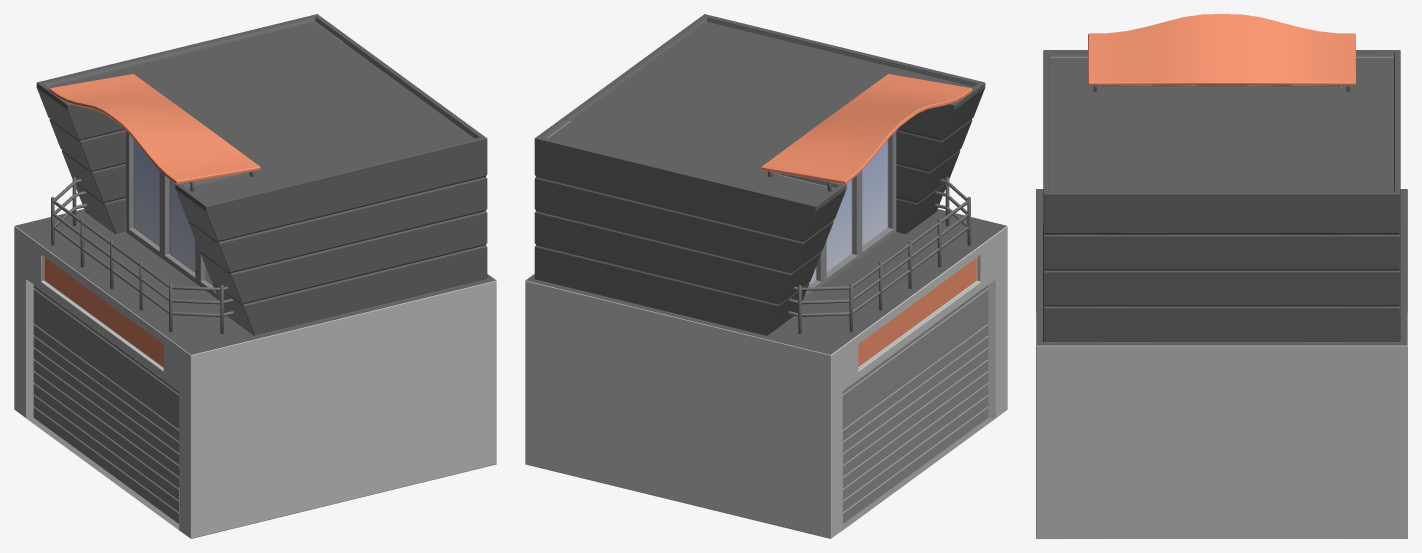
Rendered from Pit-box-Garage.fbx.
The picture shows the model from 3 angles, left to right: view 1: azimuth 30°, elevation 25°; view 2: azimuth 150°, elevation 25°; view 3: azimuth 270°, elevation 25°; orthographic projection. The views are drawn at different scales.
Visible parts, largest first — view 1: Pit-box-Garage, Pit-box-Garage_Door-closed, Pit-box-Garage_Roof, Pit-box-Garage_Door-opened, Pit-box-Garage_Fence, Pit-box-Garage_Fence-poles; view 2: Pit-box-Garage, Pit-box-Garage_Door-closed, Pit-box-Garage_Roof, Pit-box-Garage_Door-opened, Pit-box-Garage_Fence, Pit-box-Garage_Fence-poles; view 3: Pit-box-Garage, Pit-box-Garage_Roof.
Part boxes in pixels (bbox=[...]): Pit-box-Garage: bbox=[14, 14, 496, 538]; Pit-box-Garage_Door-closed: bbox=[33, 285, 179, 523]; Pit-box-Garage_Roof: bbox=[49, 74, 260, 184]; Pit-box-Garage_Door-opened: bbox=[33, 292, 179, 419]; Pit-box-Garage_Fence: bbox=[53, 179, 233, 316]; Pit-box-Garage_Fence-poles: bbox=[51, 177, 223, 333]; Pit-box-Garage: bbox=[525, 14, 1007, 538]; Pit-box-Garage_Door-closed: bbox=[842, 285, 988, 523]; Pit-box-Garage_Roof: bbox=[761, 74, 972, 184]; Pit-box-Garage_Door-opened: bbox=[842, 292, 988, 419]; Pit-box-Garage_Fence: bbox=[788, 179, 968, 316]; Pit-box-Garage_Fence-poles: bbox=[798, 177, 970, 333]; Pit-box-Garage: bbox=[1036, 50, 1407, 538]; Pit-box-Garage_Roof: bbox=[1088, 14, 1355, 85].
Bounding box in the file's own units: 600 × 666 × 600.
